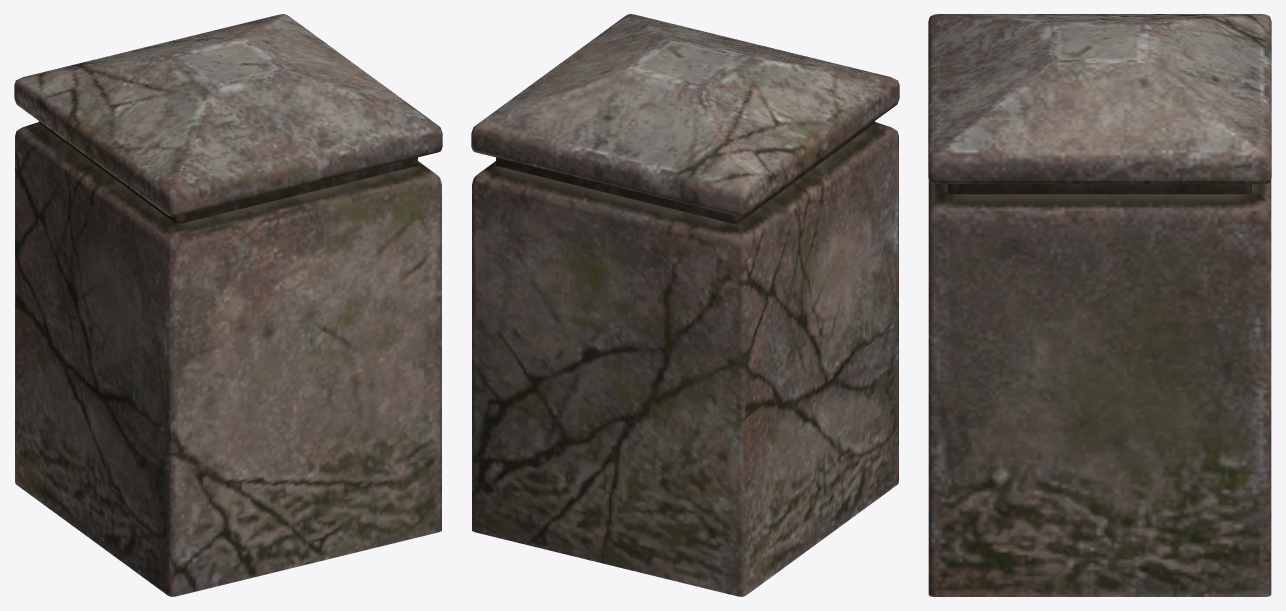
The model's file is SM_Curb_01.fbx.
The picture shows the model from 3 angles, left to right: view 1: azimuth 30°, elevation 25°; view 2: azimuth 150°, elevation 25°; view 3: azimuth 270°, elevation 25°; orthographic projection. The views are drawn at different scales.
Parts seen in each view (by area): view 1: SM_curb_01; view 2: SM_curb_01; view 3: SM_curb_01.
Part boxes in pixels (x1=…): SM_curb_01: x1=14, y1=14, x2=442, y2=596; SM_curb_01: x1=471, y1=14, x2=899, y2=596; SM_curb_01: x1=928, y1=14, x2=1271, y2=596.
Bounding box in the file's own units: 21.01 × 32.56 × 21.01.
